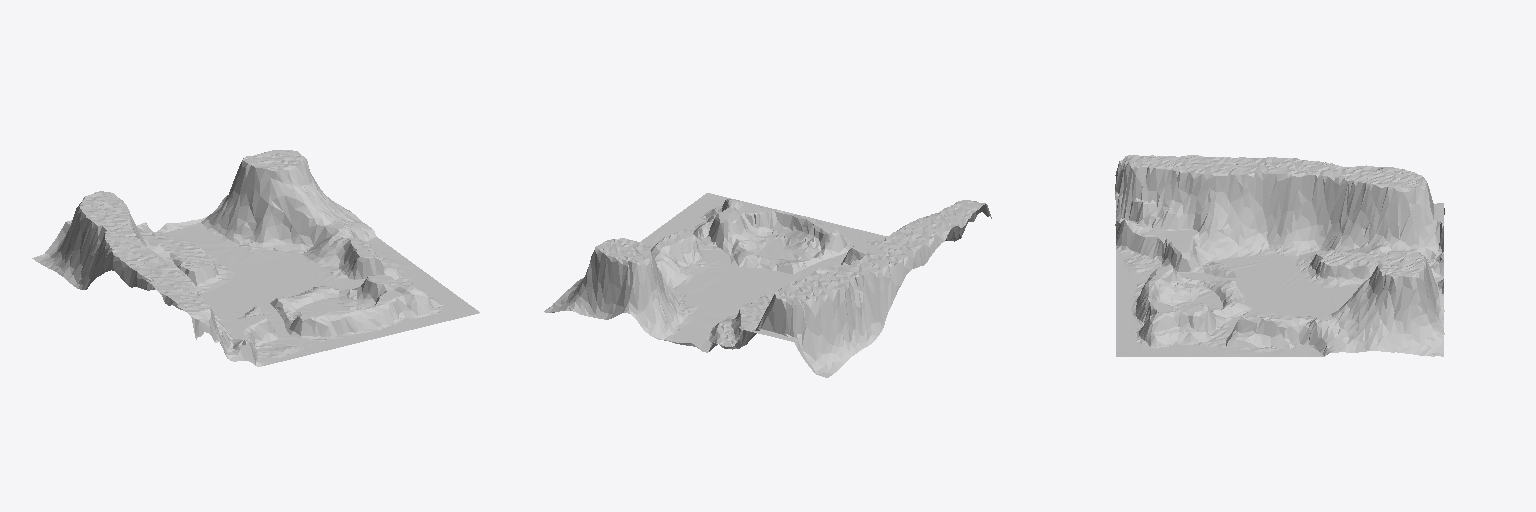
Rendered from BufferZone.obj.
The picture shows the model from 3 angles: view 1: azimuth 30°, elevation 25°; view 2: azimuth 150°, elevation 25°; view 3: azimuth 270°, elevation 25°; orthographic projection.
Visible parts, largest first — view 1: 1.007; view 2: 1.007; view 3: 1.007.
Part boxes in pixels (x1,y1,x2,y2): 1.007: (32,150,479,366); 1.007: (544,193,991,377); 1.007: (1115,155,1444,356).
Bounding box in the file's own units: 100 × 21.62 × 100.